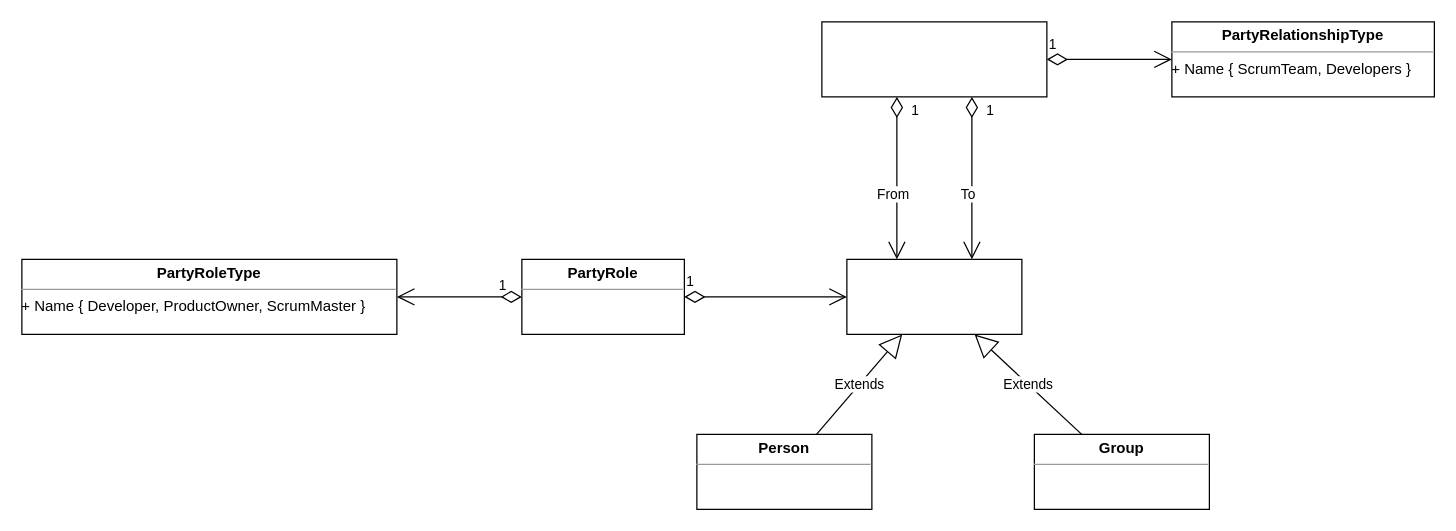
Image size: 1456x531. Some labels were removed from this diagram. The shapes that lost their labels are listed below. From the top down, each one's box as (x1, y1, x2, y2) in pixels, then its label:
(821, 21, 1047, 97): Party Relationship
(846, 258, 1022, 334): Party
